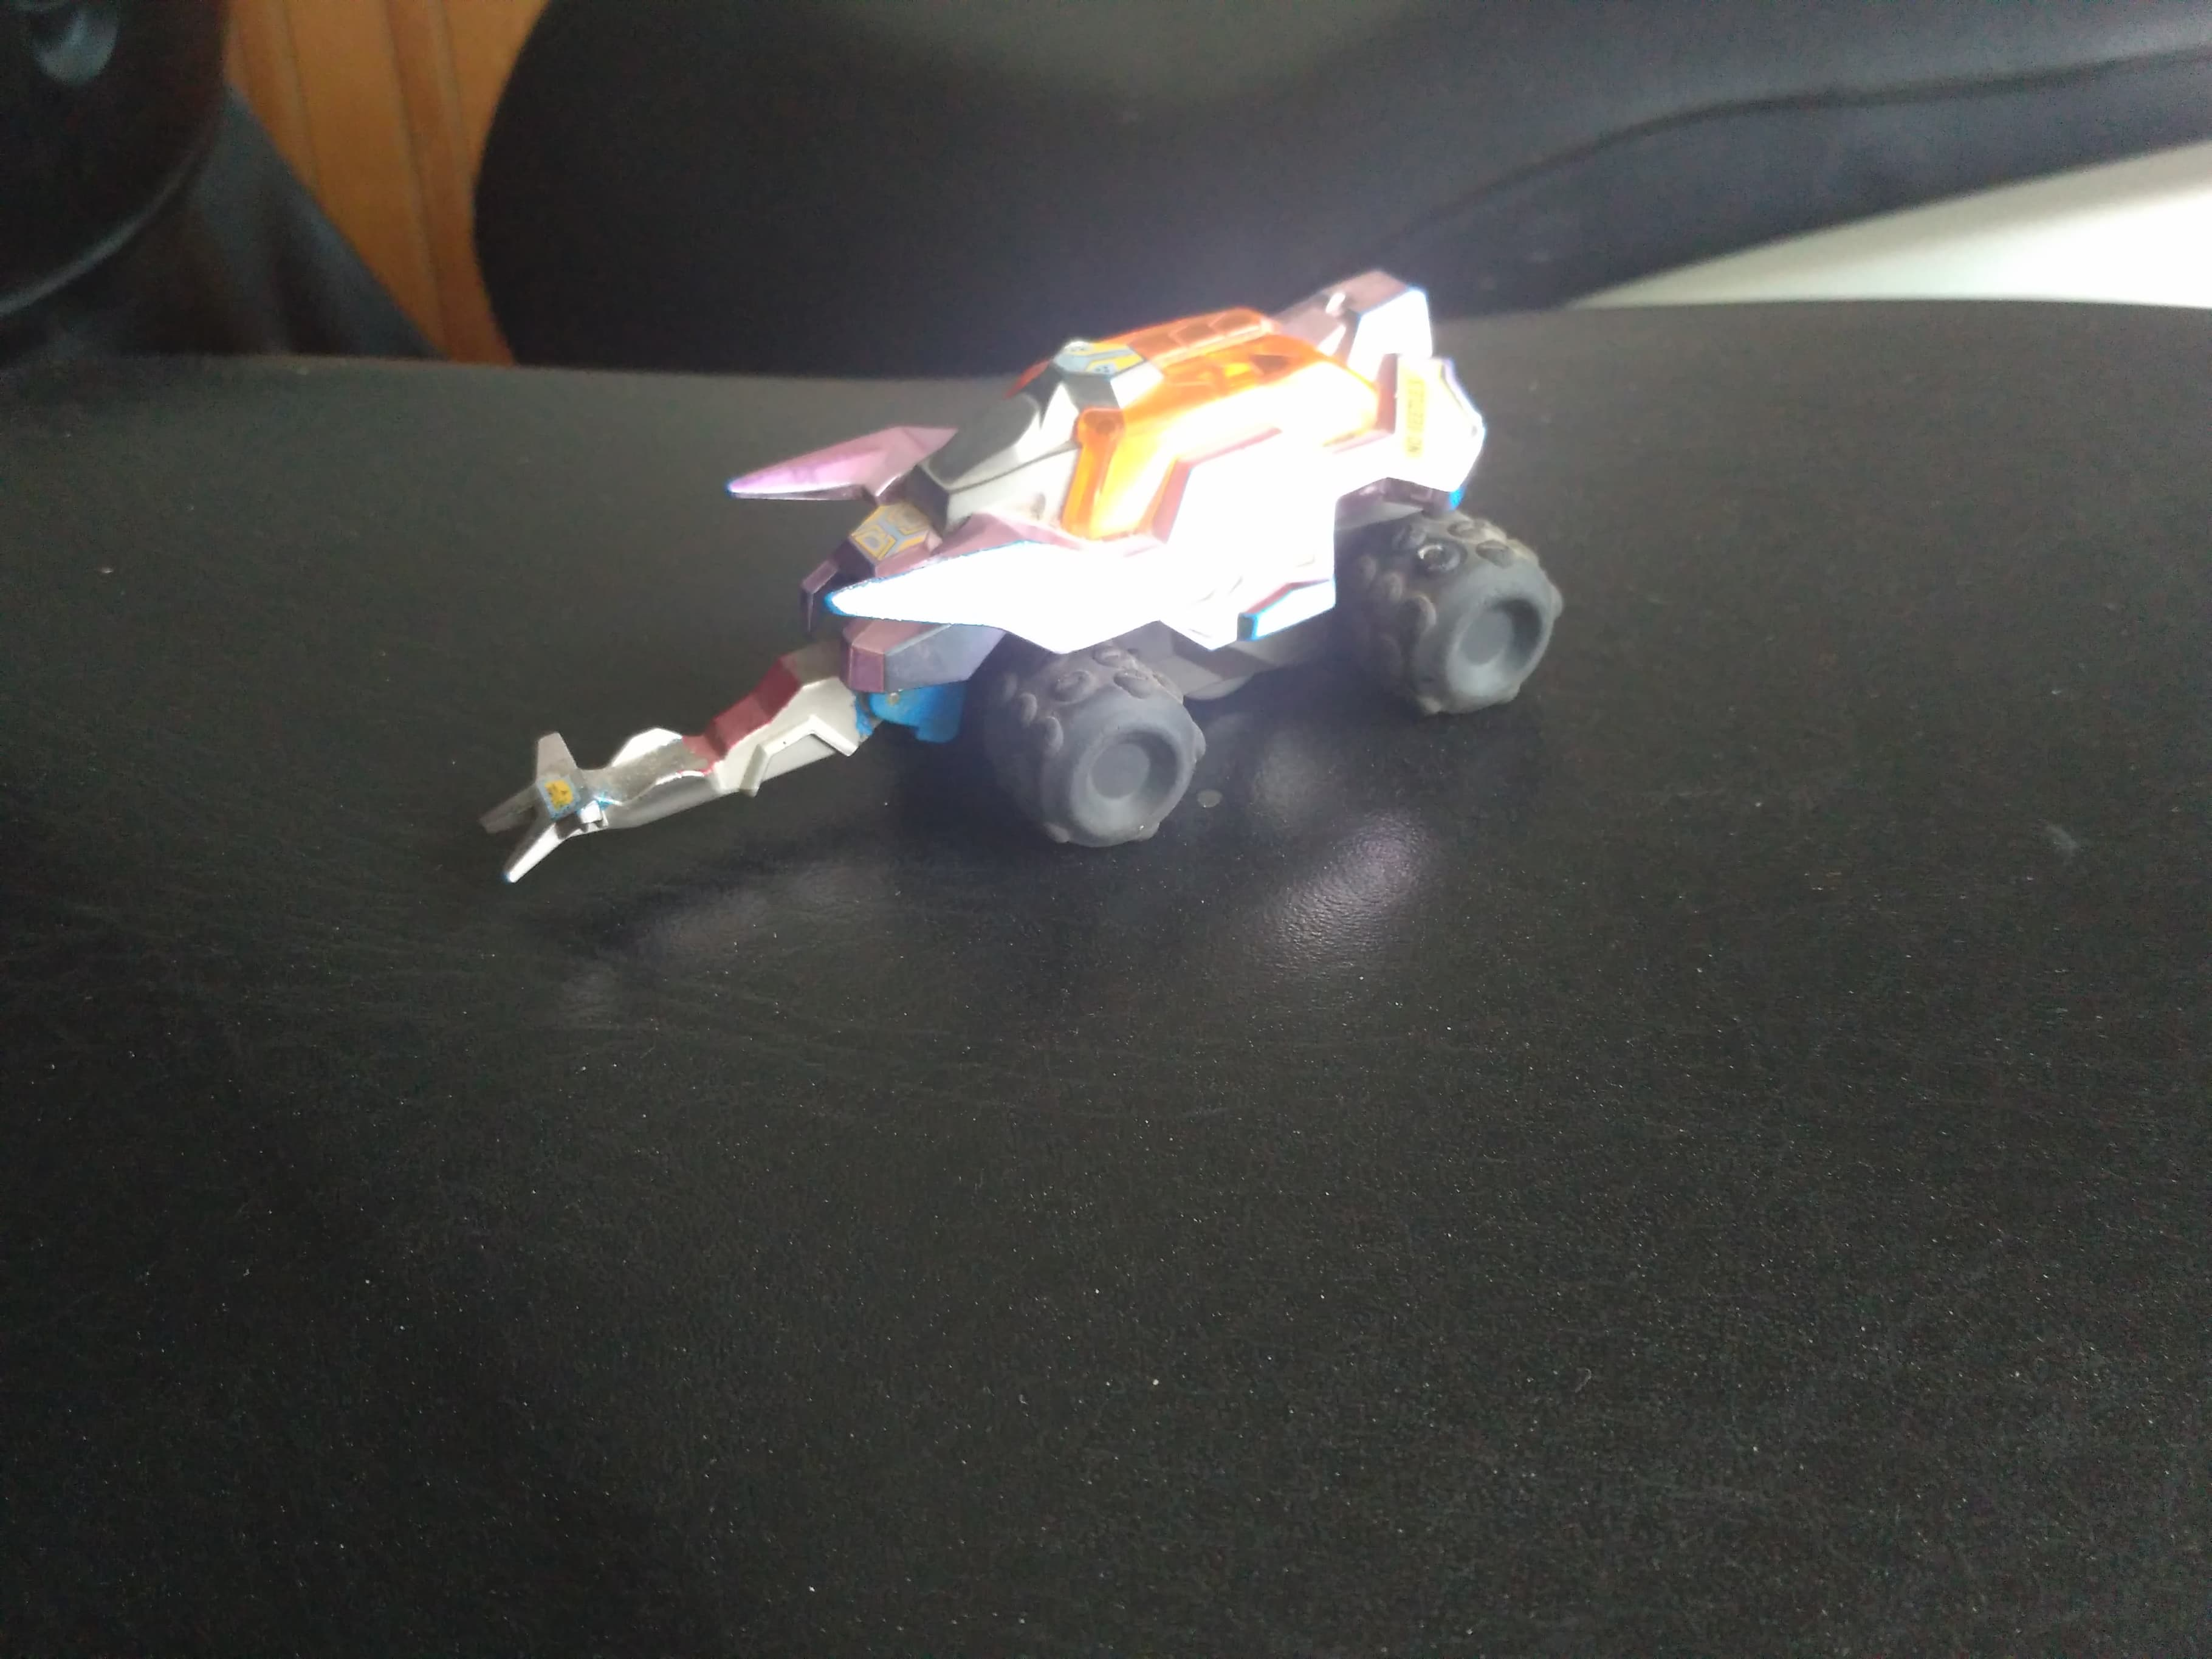rhino: (469, 258, 1573, 906)
